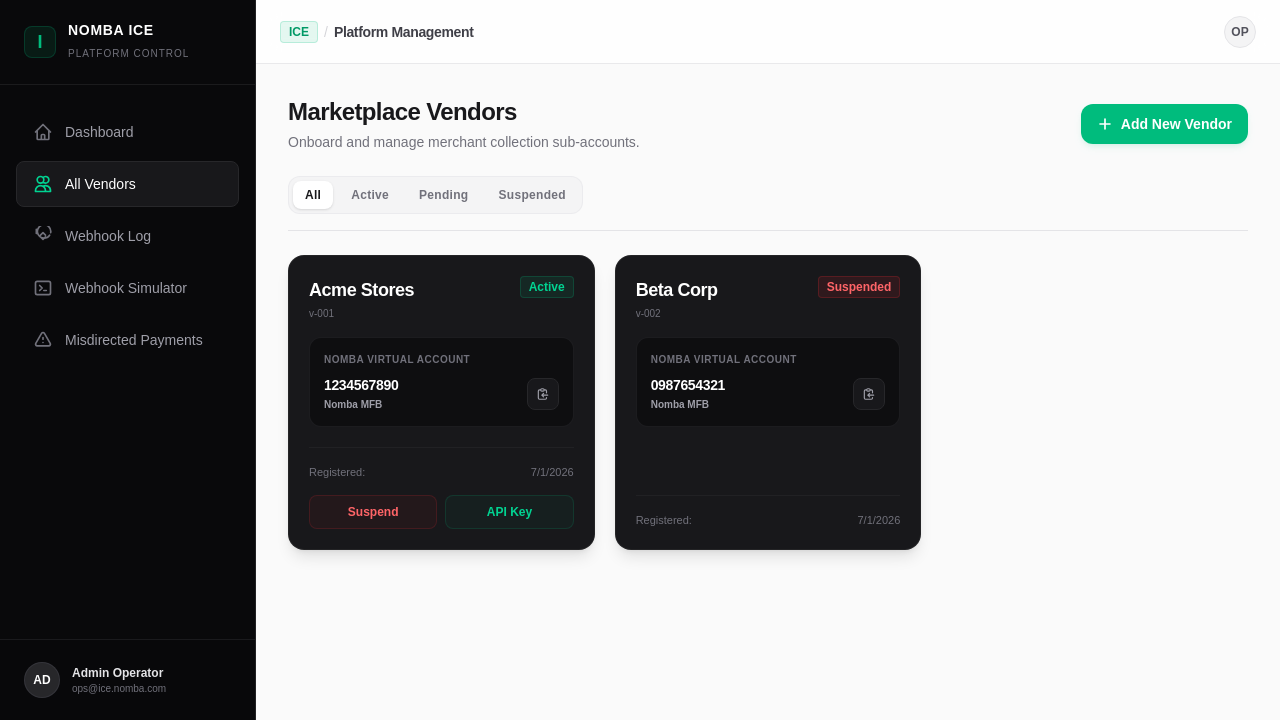
Test: VendorsIndex Page › filters vendors by active status when Active filter is clicked
Expected: the heading "Acme Stores" is shown, [309,276,414,304]
Click the button "active" at {"x": 370, "y": 195}, box [339,181,401,209]
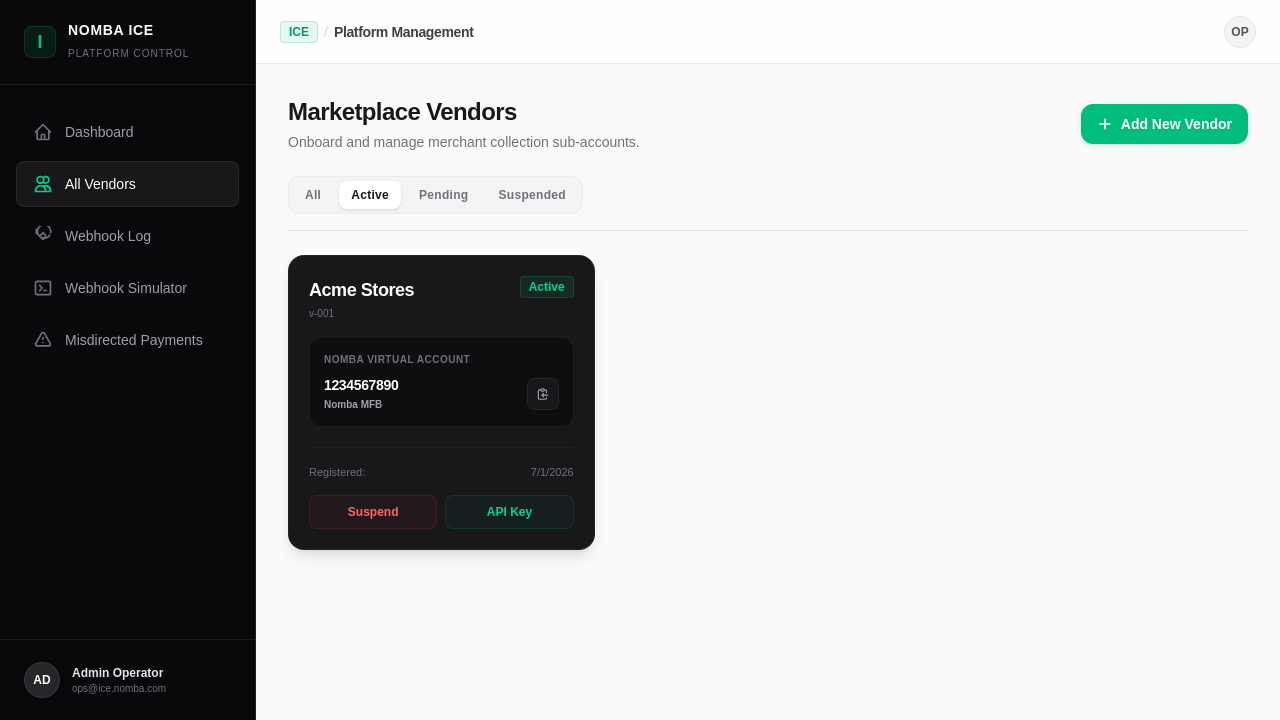
Expected: the heading "Acme Stores" is shown, [309,276,414,304]
Expected: the heading "Beta Corp" is gone
